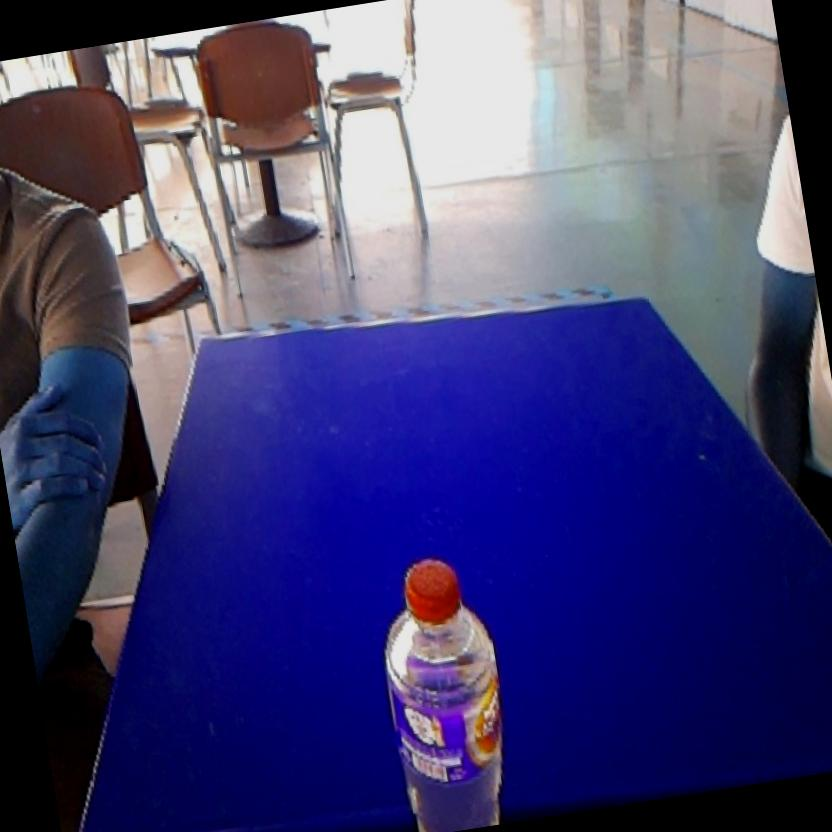good: (346, 527, 530, 832)
